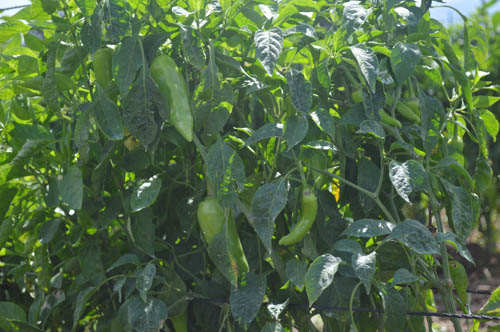ChiliPepper: (155, 56, 198, 140), (198, 200, 245, 272), (281, 191, 316, 248), (96, 47, 116, 89)
